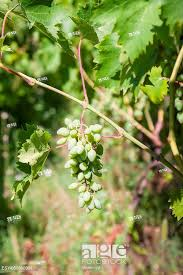grapes: (55, 111, 111, 214)
